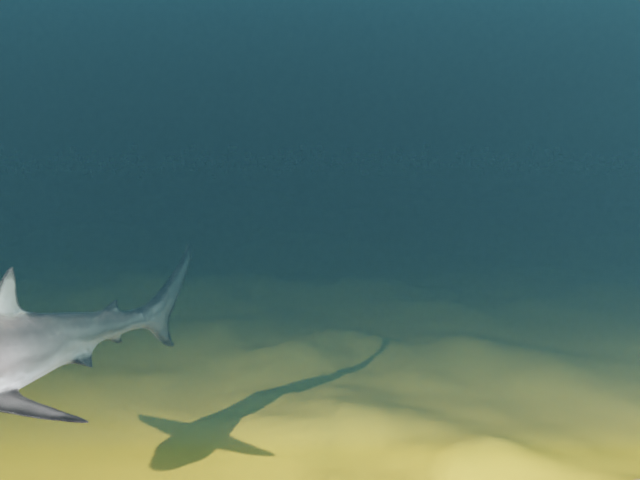Carribean Shark.001: (0, 242, 192, 429)
